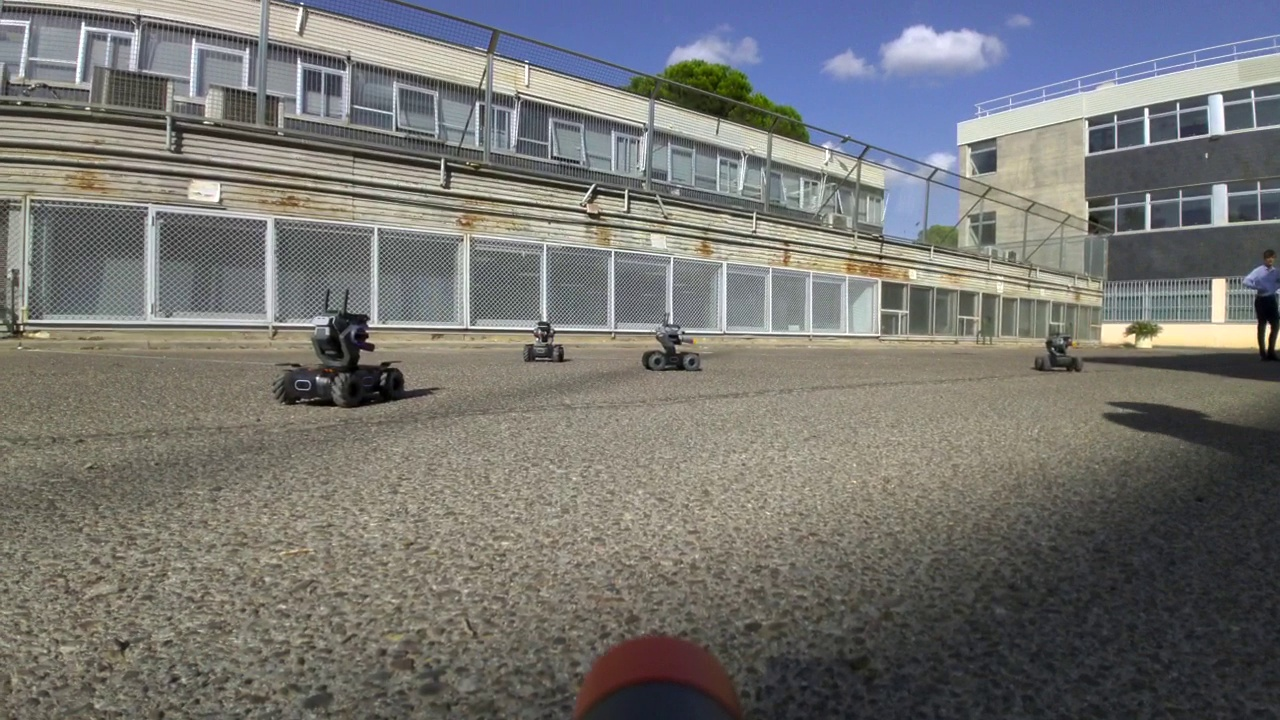robot: (271, 286, 402, 408), (642, 311, 704, 377), (1034, 330, 1085, 374), (523, 315, 567, 364)
